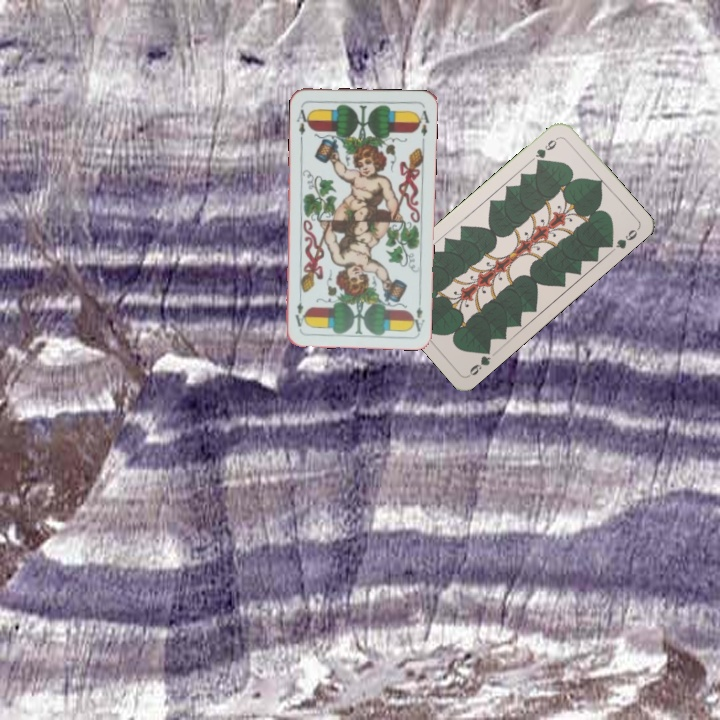EA: (292, 102, 312, 142), (408, 293, 427, 334)
G9: (465, 343, 493, 379), (531, 133, 561, 166)
